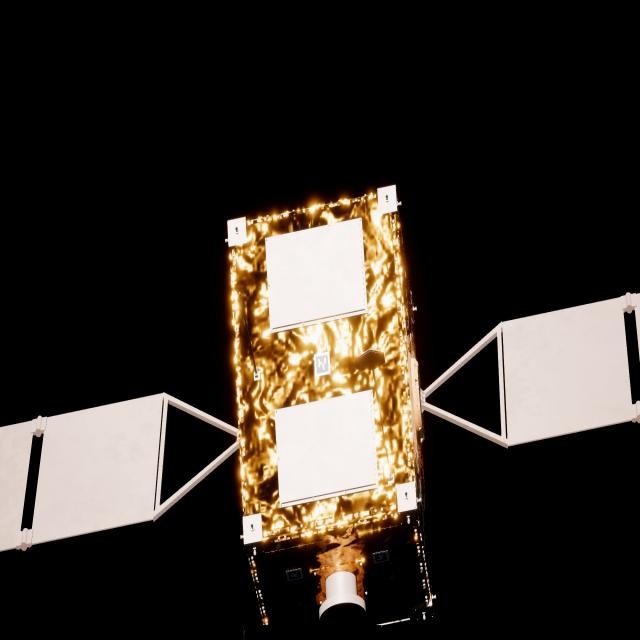medium_debris: (0, 186, 640, 636)
